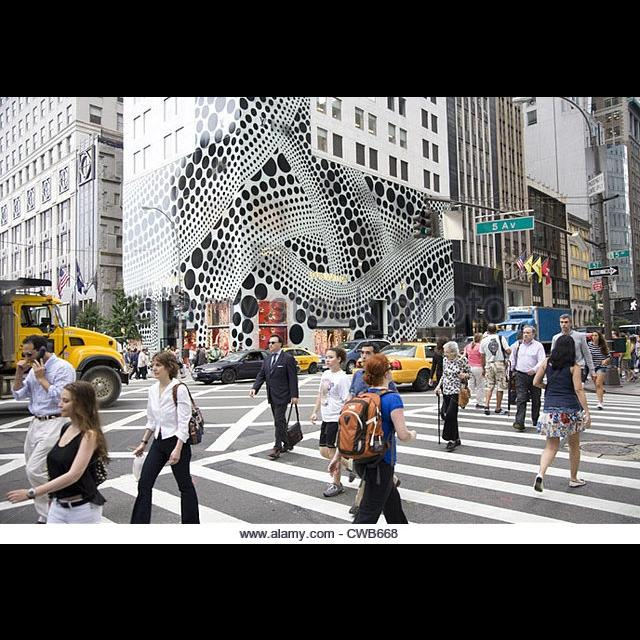head: (56, 380, 95, 420), (364, 354, 394, 386), (22, 335, 50, 365), (152, 351, 176, 382), (361, 342, 381, 366), (324, 348, 344, 368), (557, 335, 575, 355), (442, 342, 458, 362), (268, 335, 284, 353), (560, 314, 574, 331), (523, 324, 537, 340), (438, 336, 450, 350), (518, 330, 530, 342), (488, 323, 498, 335), (592, 331, 600, 342), (474, 333, 482, 342), (611, 329, 619, 338), (630, 336, 638, 344), (624, 328, 630, 336), (143, 348, 149, 354), (130, 349, 134, 355), (214, 344, 218, 350), (136, 349, 140, 353)
person: (10, 332, 80, 528), (346, 338, 404, 520), (531, 333, 593, 494), (308, 344, 360, 500), (248, 333, 306, 462), (544, 312, 600, 443), (432, 340, 474, 456), (508, 322, 548, 434), (478, 321, 514, 417), (427, 332, 458, 422), (582, 328, 614, 412), (460, 330, 492, 410), (503, 326, 532, 414), (618, 332, 634, 384), (610, 327, 622, 383), (136, 346, 152, 382), (208, 342, 222, 382), (128, 348, 142, 382), (124, 348, 132, 384)
